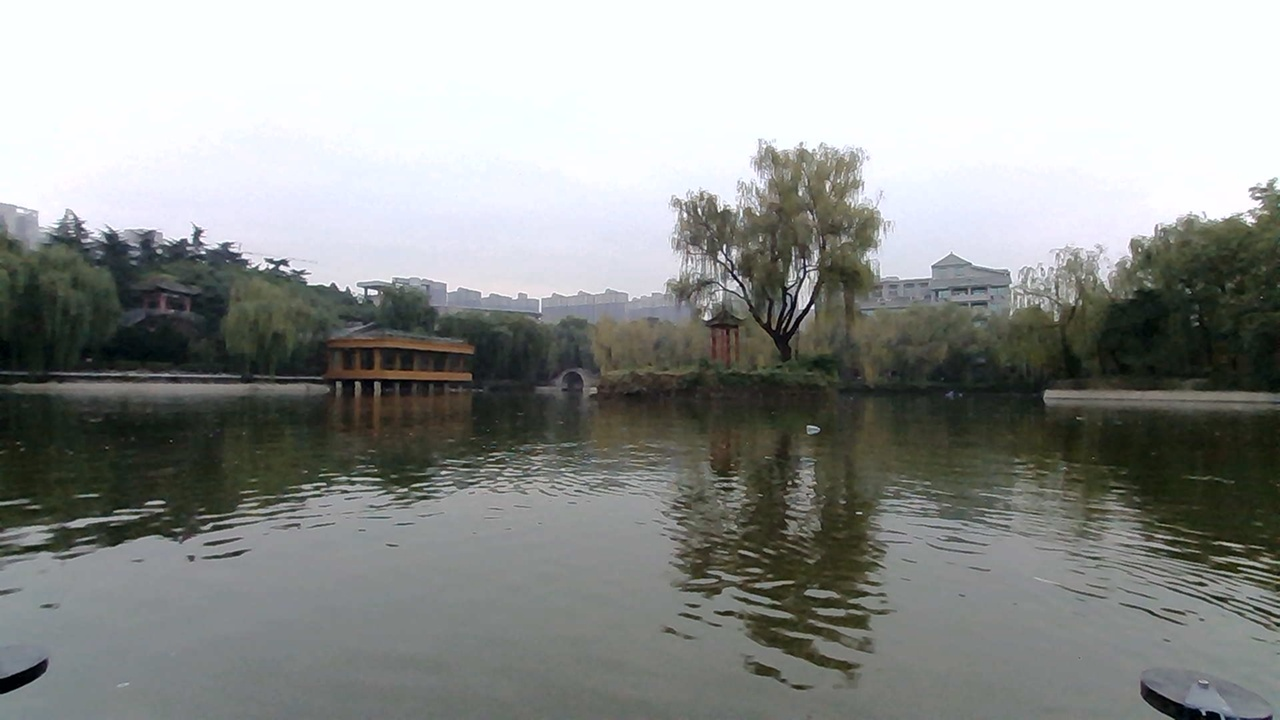bottle: (789, 410, 844, 442)
